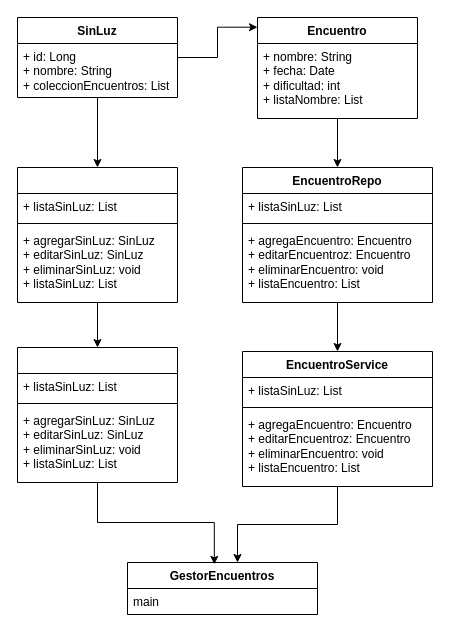
The diagram is 450 pixels wide and 635 high, and some of its shapes have lost their labels. Here are the shapes that lost their labels. From the top down, the box of each, then its label:
(16, 166, 178, 302): SinLuzRepo
(16, 346, 178, 482): SinLuzService
